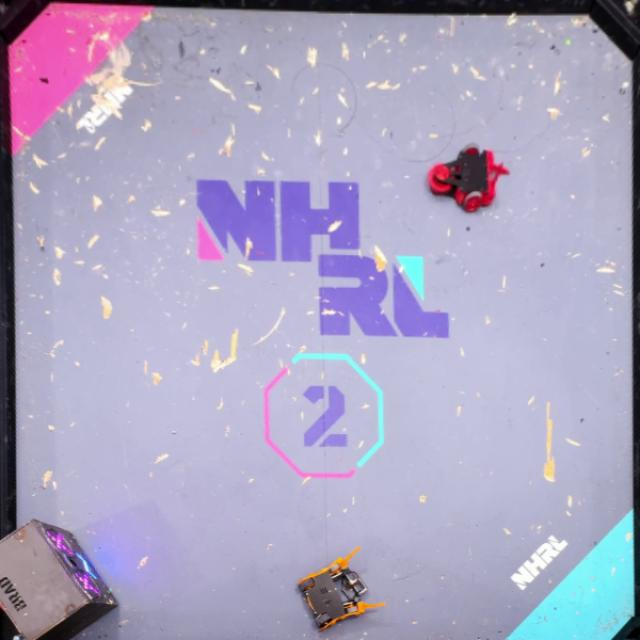housebot: (0, 516, 118, 640)
robot: (296, 544, 389, 630), (426, 144, 510, 212)
